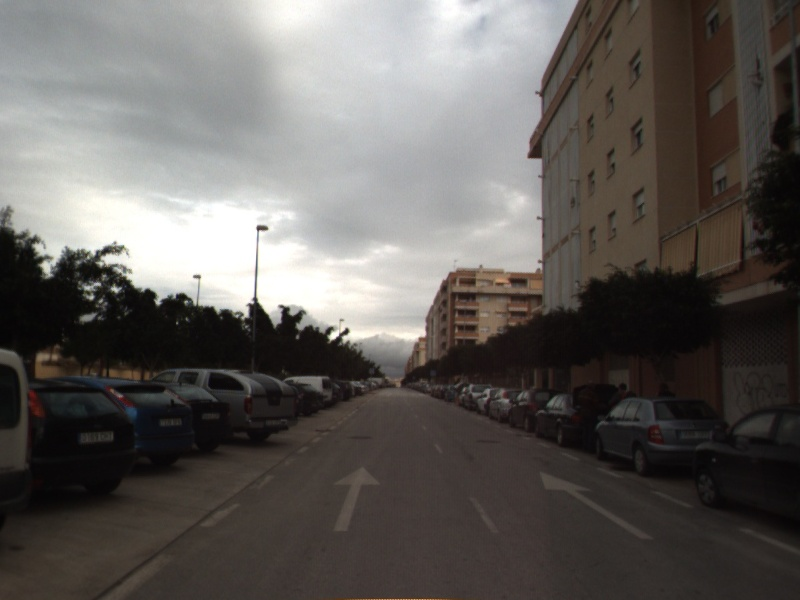STRAIGHT: (538, 470, 656, 541), (330, 464, 383, 533)
